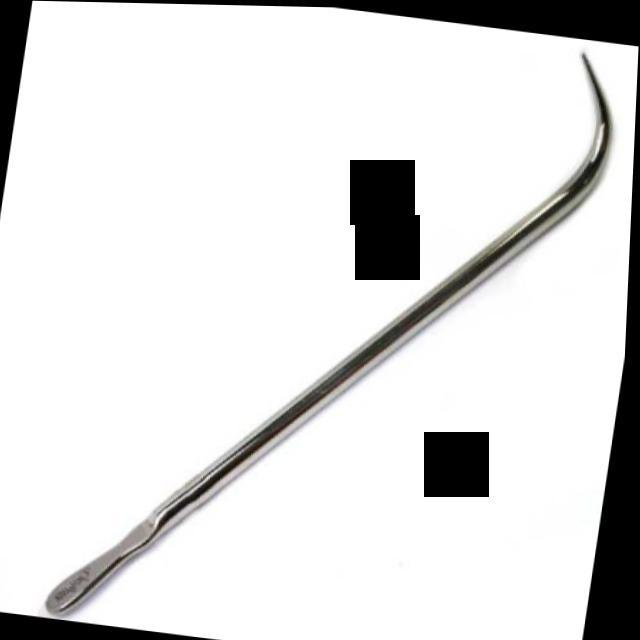Urethral Dilators: (29, 1, 640, 640)
